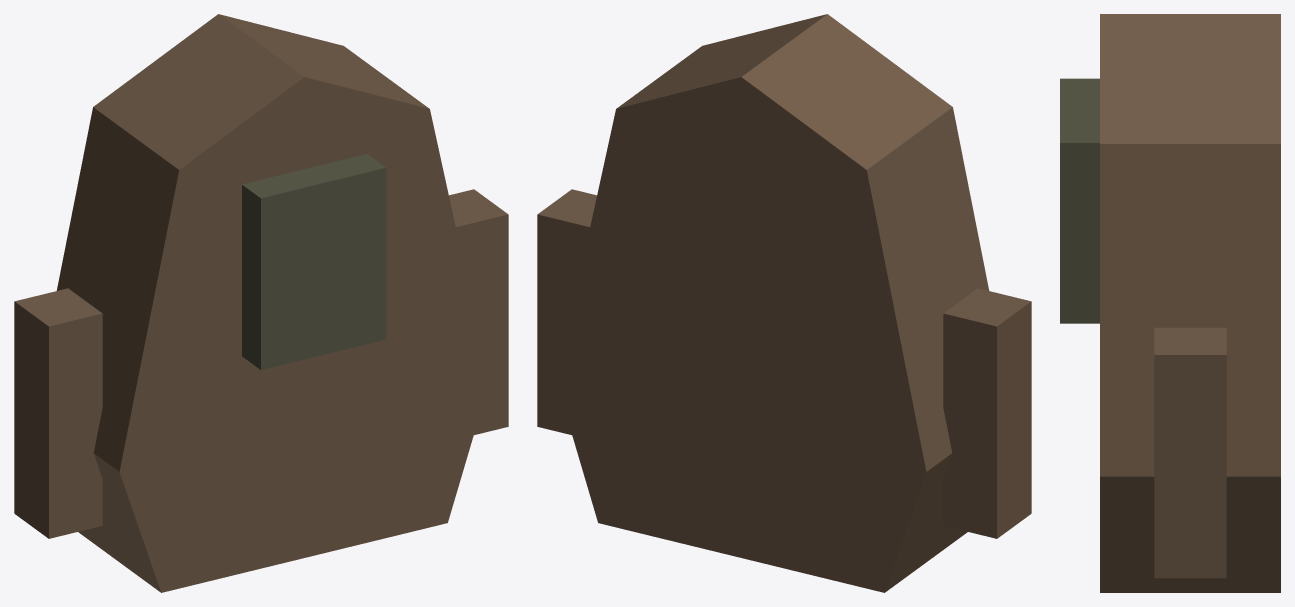
File: silk_robe.obj
3 renders of one model, left to right at view 1: azimuth 30°, elevation 25°; view 2: azimuth 150°, elevation 25°; view 3: azimuth 270°, elevation 25°, orthographic. The views are drawn at different scales.
Visible parts, largest first — view 1: item_91; view 2: item_91; view 3: item_91.
Boxes of the visible parts, bbox=[...] form: item_91: bbox=[14, 14, 508, 592]; item_91: bbox=[537, 14, 1031, 592]; item_91: bbox=[1060, 14, 1280, 592].
Size of the model in its own units: 1.54 by 1.54 by 0.61.
